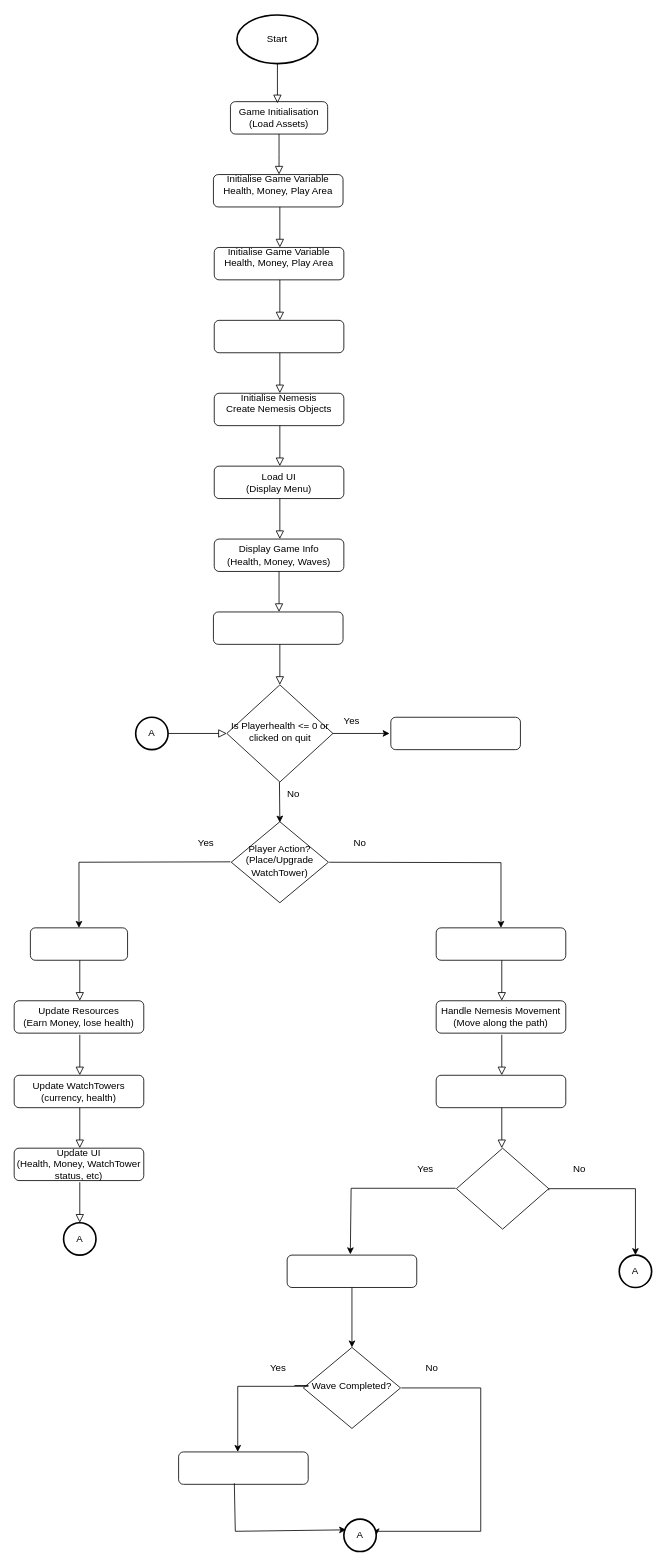
The diagram is 667 pixels wide and 1566 high, and some of its shapes have lost their labels. The shapes that lost their labels are listed below. From the top down, each one's centre as x and y in pixels, then its label:
At point 278,336: "Initialise WatchTowers Create WatchTower Objects".
At point 278,627: "Enter Game Loop".
At point 455,733: "End Game".
At point 79,943: "Process Player Input (Mouse Click, etc)".
At point 500,943: "Update Game Object (WatchTowers, Nemesis, etc)".
At point 500,1091: "Check for Collisions (Attack from WatchTowers)".
At point 502,1188: "Is hit?".
At point 351,1270: "Remove Nemesis from the list".
At point 243,1467: "Start Next Wave".
